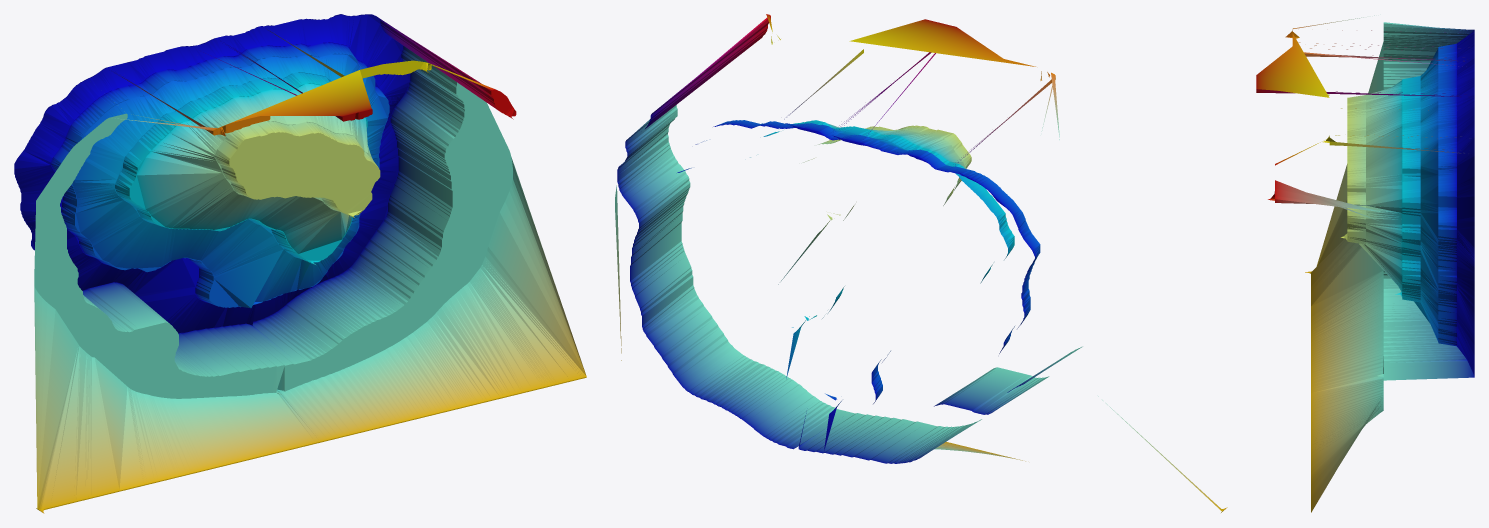
3 views of the same model, side by side, from view 1: azimuth 30°, elevation 25°; view 2: azimuth 150°, elevation 25°; view 3: azimuth 270°, elevation 25° (orthographic). The views are drawn at different scales.
Parts seen in each view (by area): view 1: world; view 2: world; view 3: world.
Boxes of the visible parts, x1=… form: world: x1=14, y1=14, x2=586, y2=513; world: x1=615, y1=14, x2=1227, y2=512; world: x1=1256, y1=15, x2=1474, y2=512.
Bounding box in the file's own units: 616 × 380 × 235.
